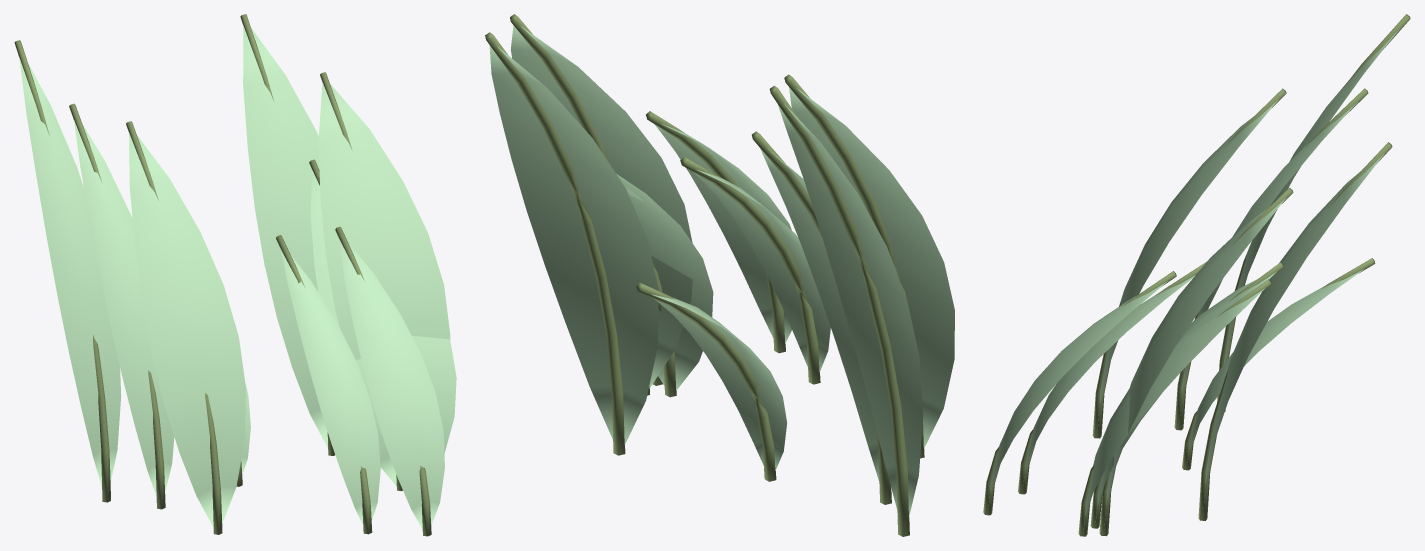
The model's file is plant_current_meadow_06.obj.
3 views of the same model, side by side, from view 1: azimuth 30°, elevation 25°; view 2: azimuth 150°, elevation 25°; view 3: azimuth 270°, elevation 25° (orthographic). The views are drawn at different scales.
Visible parts, largest first — view 1: bent_living_blade.155, bent_living_blade.157, bent_living_blade.161, bent_living_blade.152, bent_living_blade.154, bent_living_blade.158, bent_living_blade.160, bent_living_blade.156, bent_living_blade.153, leaf_midrib.152, leaf_midrib.158, leaf_midrib.155 (+3 smaller); view 2: bent_living_blade.161, bent_living_blade.152, bent_living_blade.155, bent_living_blade.157, bent_living_blade.160, bent_living_blade.158, bent_living_blade.159, leaf_midrib.152, bent_living_blade.153, leaf_midrib.161, bent_living_blade.154, leaf_midrib.160 (+6 smaller); view 3: bent_living_blade.157, bent_living_blade.161, bent_living_blade.155, bent_living_blade.156, bent_living_blade.154, bent_living_blade.160, bent_living_blade.159, bent_living_blade.152, bent_living_blade.158, leaf_midrib.161, bent_living_blade.153, leaf_midrib.155 (+8 smaller).
Part boxes in pixels (box(x1,y1,x2,y2)): bent_living_blade.155: box(129, 133, 245, 526); bent_living_blade.157: box(318, 82, 450, 360); bent_living_blade.161: box(243, 25, 332, 456); bent_living_blade.152: box(19, 57, 121, 502); bent_living_blade.154: box(339, 239, 444, 528); bent_living_blade.158: box(74, 120, 174, 496); bent_living_blade.160: box(281, 250, 380, 534); bent_living_blade.156: box(356, 336, 456, 452); bent_living_blade.153: box(310, 170, 396, 485); leaf_midrib.152: box(14, 40, 110, 502); leaf_midrib.158: box(69, 103, 165, 509); leaf_midrib.155: box(126, 121, 222, 534); bent_living_blade.161: box(489, 45, 658, 444); bent_living_blade.152: box(777, 104, 923, 516); bent_living_blade.155: box(789, 87, 954, 448); bent_living_blade.157: box(511, 25, 692, 388); bent_living_blade.160: box(694, 169, 830, 371); bent_living_blade.158: box(760, 148, 891, 487); bent_living_blade.159: box(652, 294, 786, 470); leaf_midrib.152: box(769, 85, 909, 536); bent_living_blade.153: box(616, 173, 713, 390); leaf_midrib.161: box(485, 32, 625, 455); bent_living_blade.154: box(655, 124, 791, 343); leaf_midrib.160: box(680, 157, 820, 384); bent_living_blade.157: box(1104, 197, 1286, 529); bent_living_blade.161: box(1203, 153, 1384, 507); bent_living_blade.155: box(1098, 99, 1278, 425); bent_living_blade.156: box(1083, 288, 1265, 532); bent_living_blade.154: box(988, 281, 1167, 505); bent_living_blade.160: box(1023, 275, 1195, 484); bent_living_blade.159: box(1187, 269, 1364, 462); bent_living_blade.152: box(1223, 29, 1399, 364); bent_living_blade.158: box(1180, 102, 1357, 415); leaf_midrib.161: box(1198, 142, 1392, 520); bent_living_blade.153: box(1095, 271, 1277, 521); leaf_midrib.155: box(1092, 88, 1286, 438).
Bounding box in the file's own units: 1.95 × 2.25 × 2.17.
